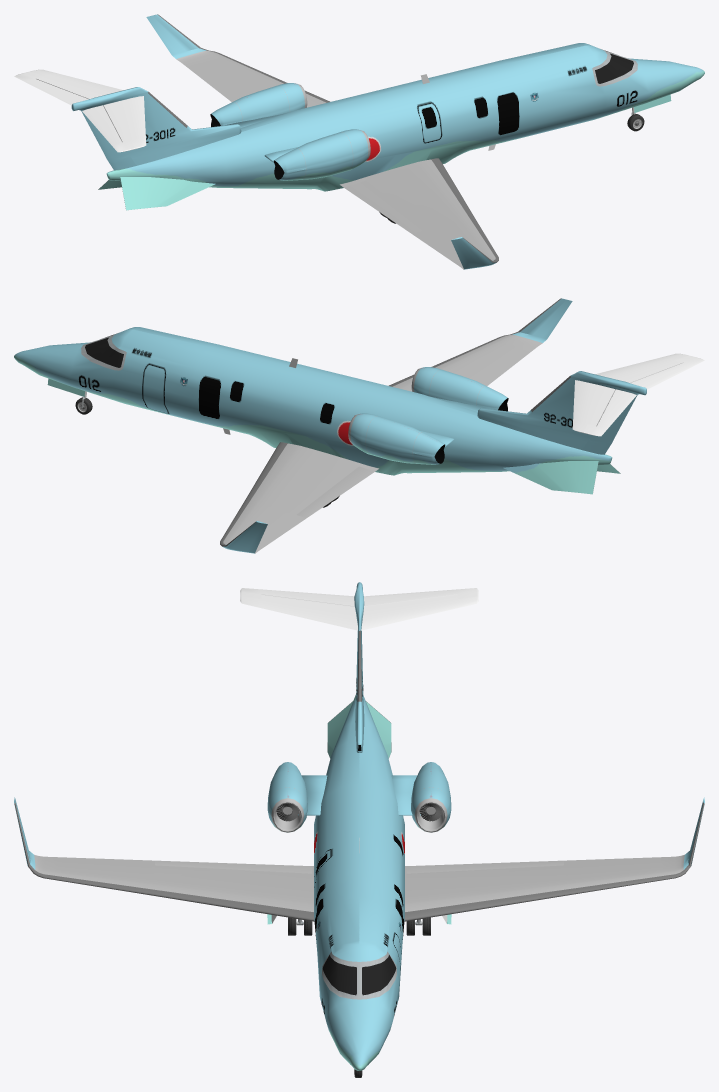
3 renders of one model, top to bottom at view 1: azimuth 30°, elevation 25°; view 2: azimuth 150°, elevation 25°; view 3: azimuth 270°, elevation 25°, orthographic. The views are drawn at different scales.
Visible parts, largest first — view 1: Cylinder; view 2: Cylinder; view 3: Cylinder.
Part boxes in pixels (x1=…): Cylinder: x1=14, y1=14, x2=704, y2=269; Cylinder: x1=14, y1=298, x2=704, y2=553; Cylinder: x1=14, y1=582, x2=704, y2=1077.
Size of the model in its own units: 18.29 by 4.62 by 15.15.
7 materials, 3 textured.
